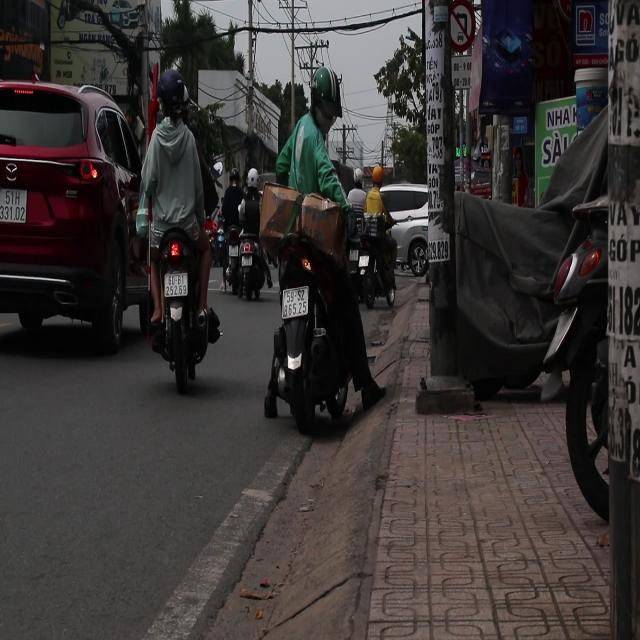car: (0, 77, 146, 357), (379, 182, 430, 274)
motorbike: (258, 179, 387, 429), (141, 197, 210, 401), (353, 181, 400, 310), (225, 227, 271, 299)
